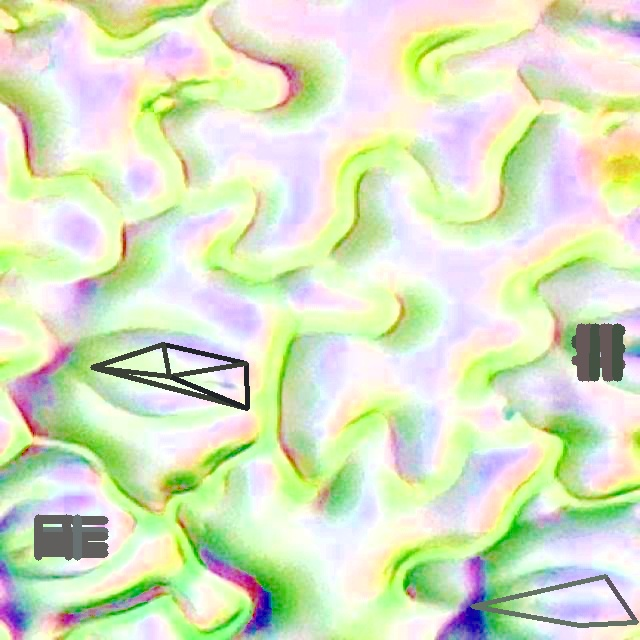open: (91, 342, 247, 410), (470, 574, 638, 627), (35, 515, 108, 560), (571, 323, 624, 380)
